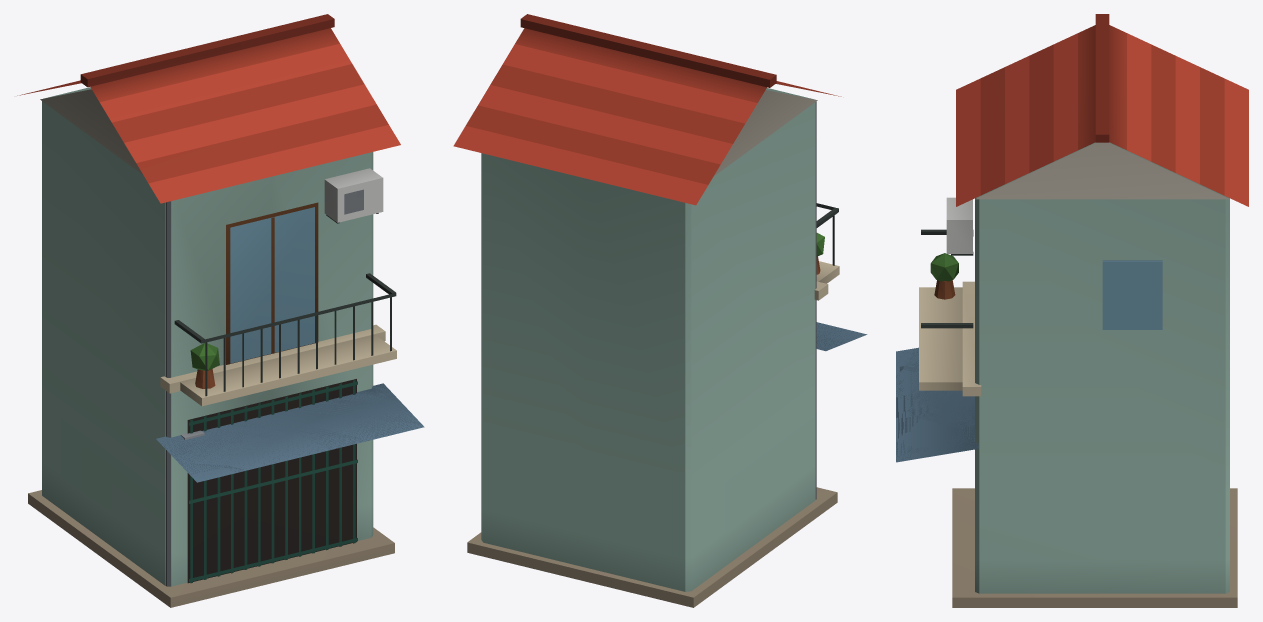
Rendered from nha-ong-1-lau.glb.
3 views of the same model, side by side, from view 1: azimuth 30°, elevation 25°; view 2: azimuth 150°, elevation 25°; view 3: azimuth 270°, elevation 25° (orthographic).
Visible parts, largest first — view 1: nha-ong-1-lau; view 2: nha-ong-1-lau; view 3: nha-ong-1-lau.
Part boxes in pixels (x1,y1,x2,y2): nha-ong-1-lau: (17,14,424,607); nha-ong-1-lau: (453,14,867,607); nha-ong-1-lau: (896,14,1248,607).
Bounding box in the file's own units: 3.8 × 7.04 × 4.7.
